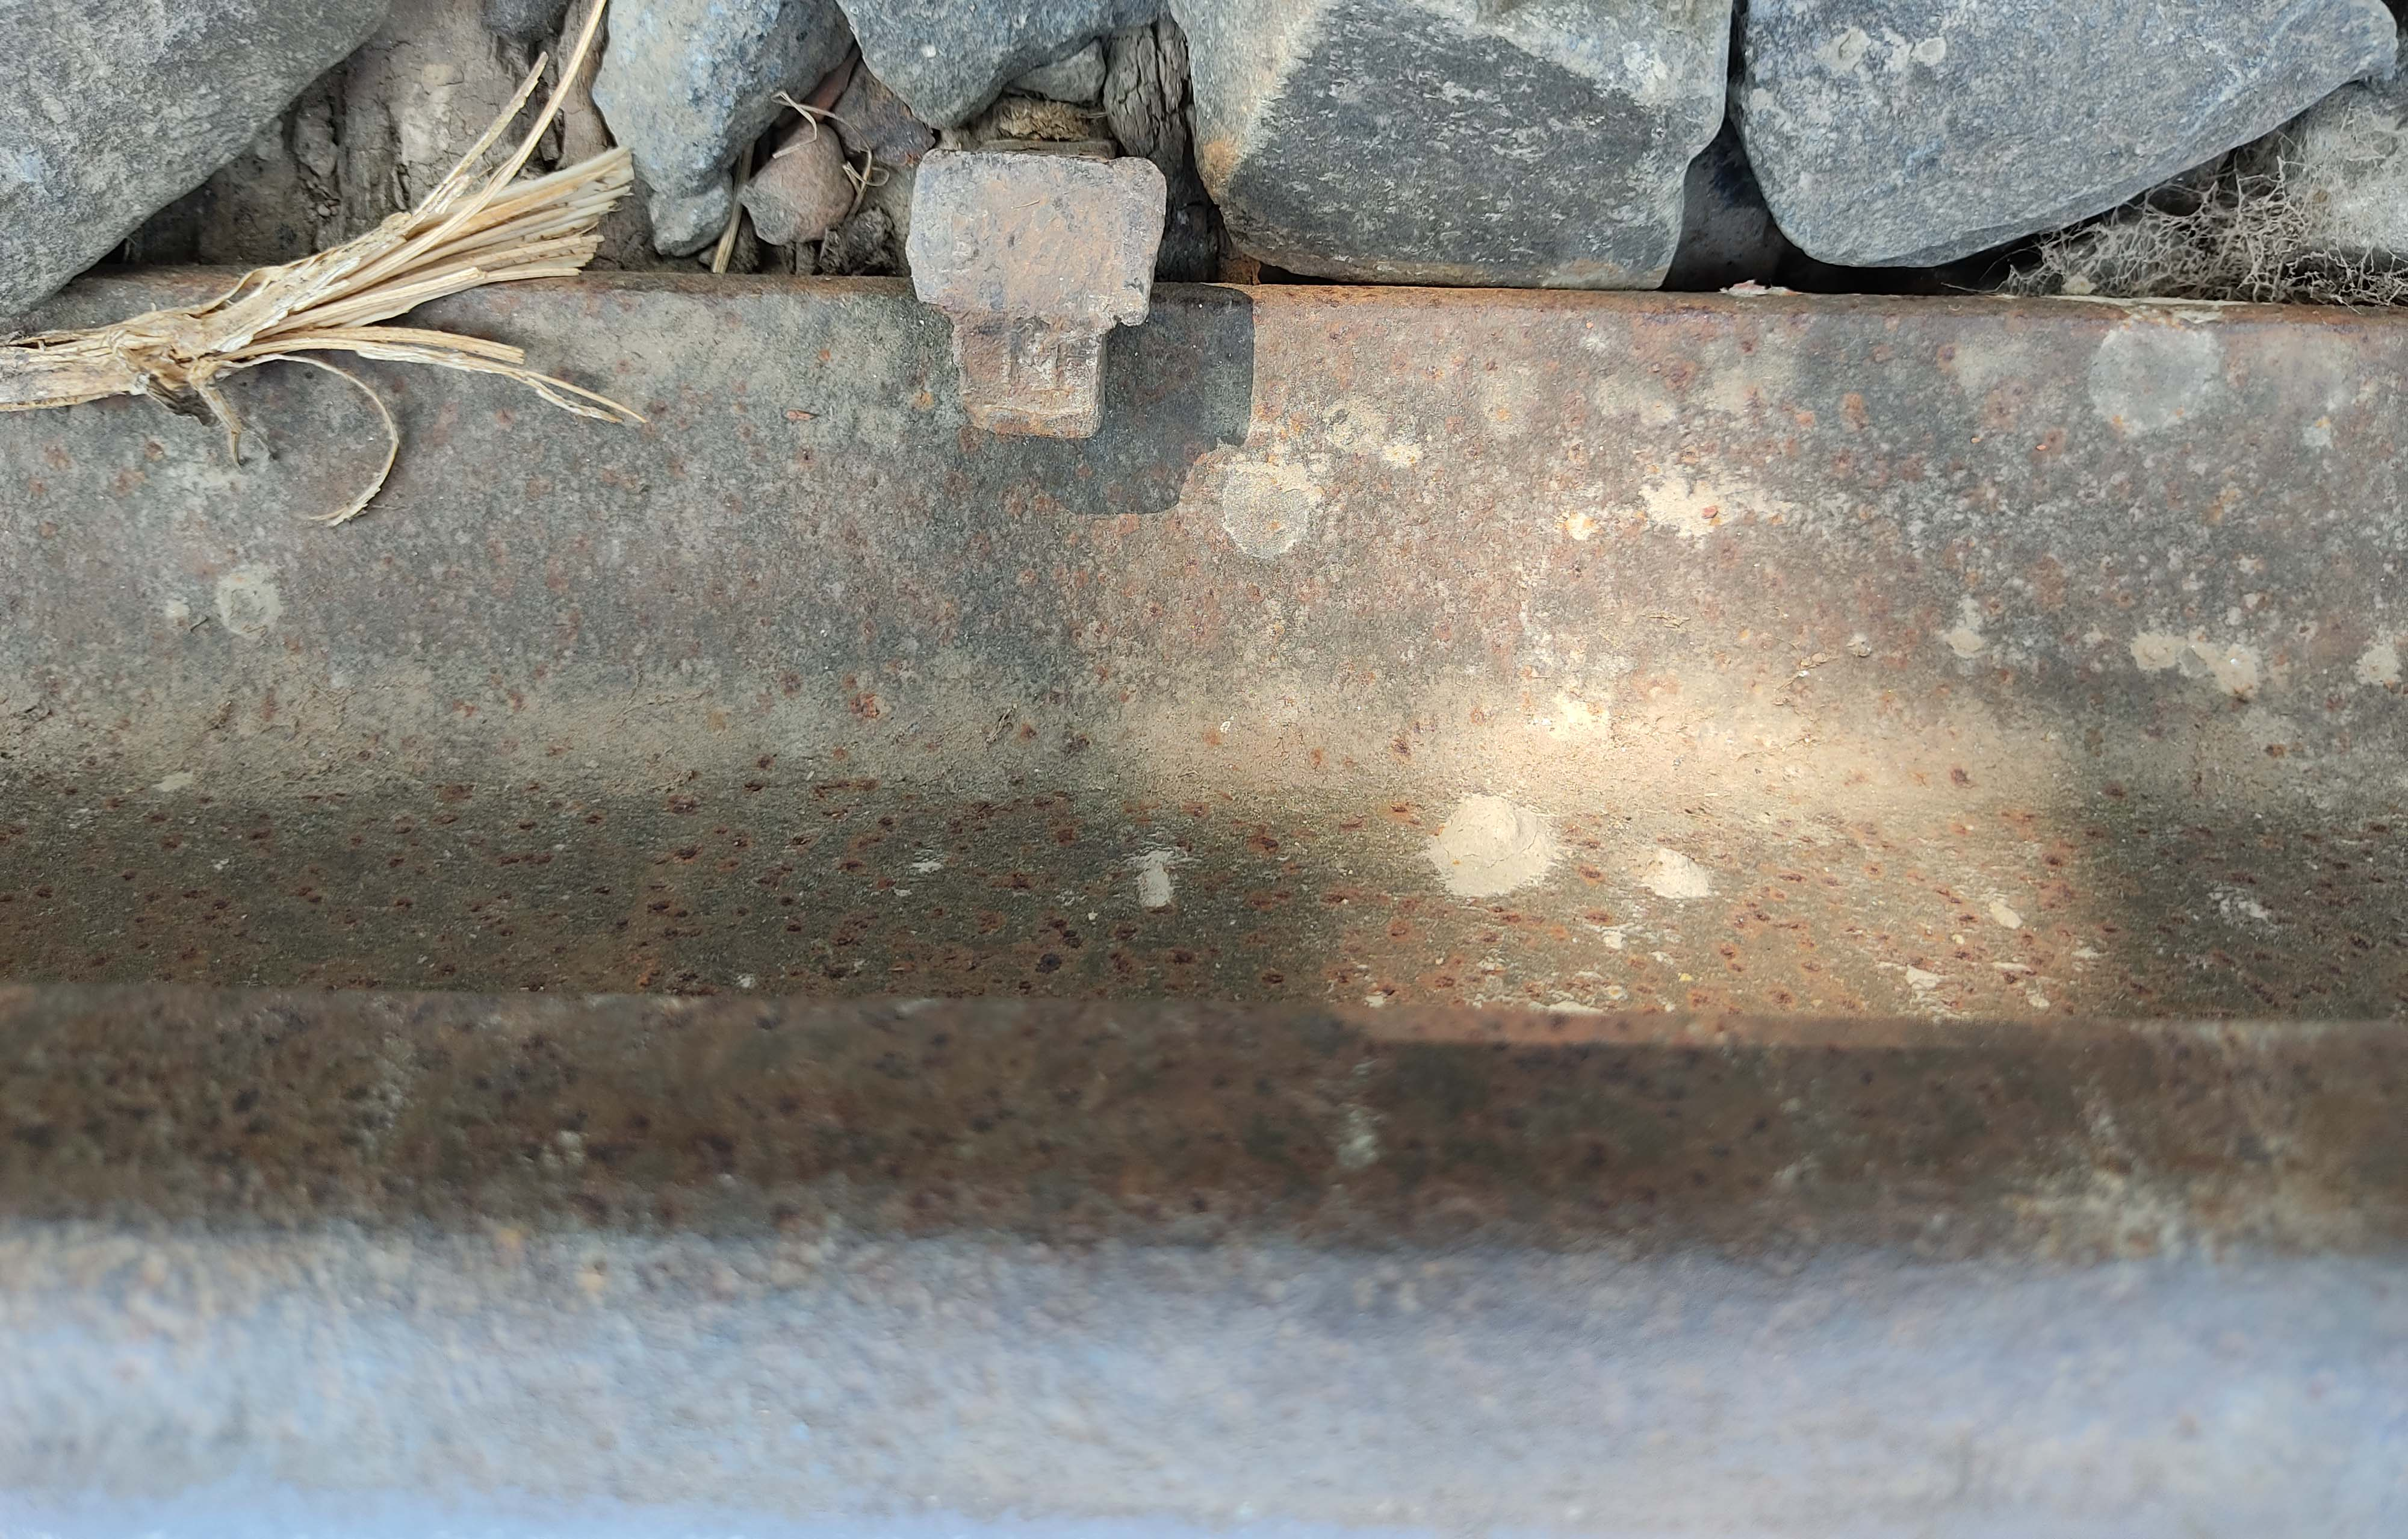error1: (841, 68, 1215, 479)
